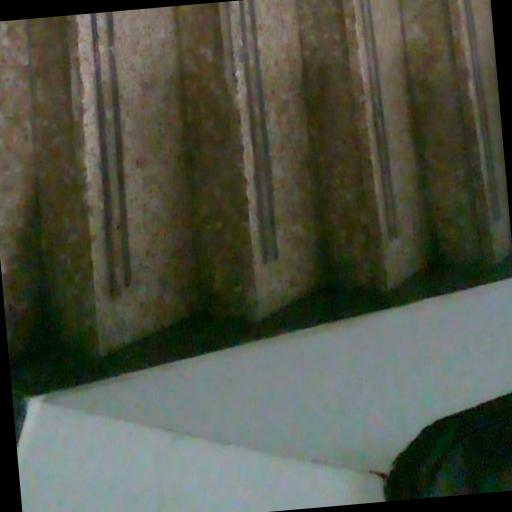stairs: (28, 0, 511, 353)
